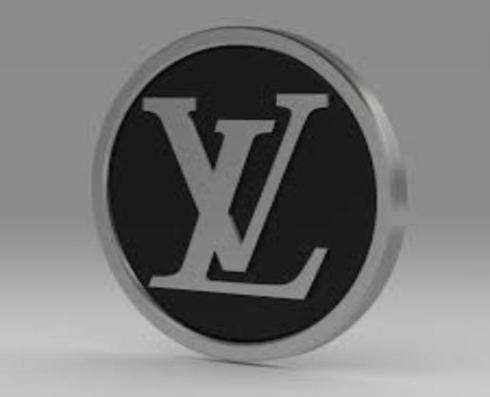LOUIS-VUITTON: (135, 77, 335, 308)
